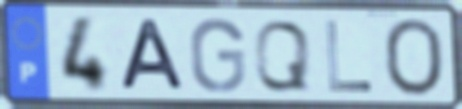4: (57, 13, 115, 96)
A: (118, 17, 188, 92)
G: (187, 16, 248, 95)
L: (322, 19, 375, 94)
O: (381, 16, 446, 99)
Q: (252, 18, 313, 94)
